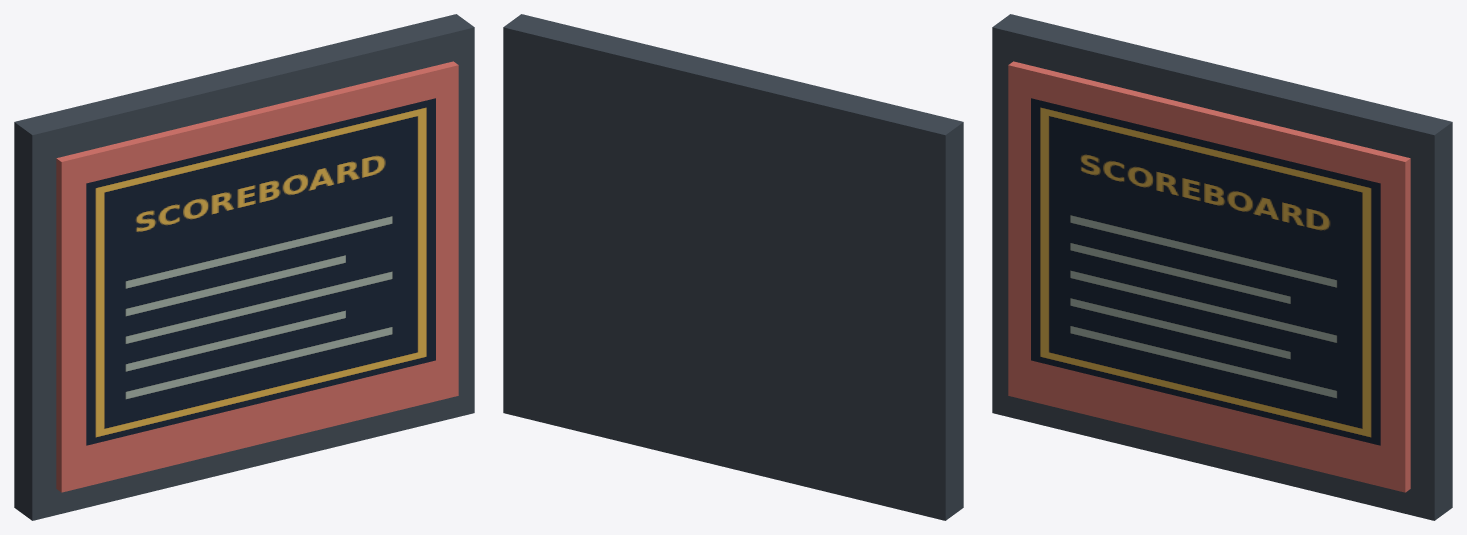
The model's file is scoreboard.glb.
3 renders of one model, left to right at view 1: azimuth 30°, elevation 25°; view 2: azimuth 150°, elevation 25°; view 3: azimuth 330°, elevation 25°, orthographic.
Size of the model in its own units: 2.94 by 2.45 by 0.2968.
2 materials, 2 textured.
